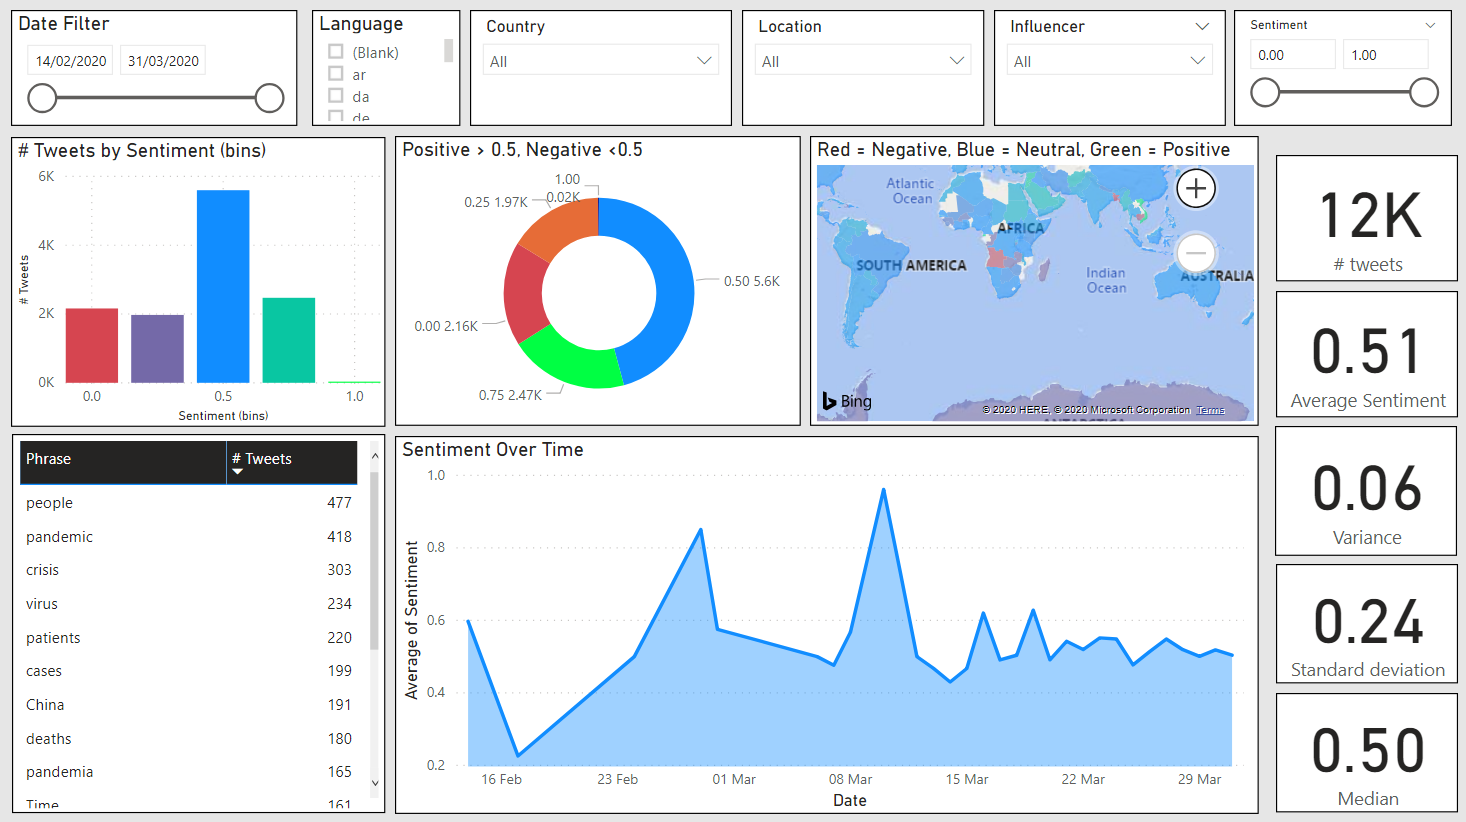

The page's visual inventory and layout, read from the dashboard file:
{"tool":"powerbi","page":{"name":"Sentiment Analysis","canvas":[1280,720],"ordinal":0},"visuals":[{"type":"slicer","title":"Date Filter","fields":{"Values":["viewTweets.DateCreated"]},"box":[9.7,10.7,247.4,100.3],"z":0},{"type":"slicer","title":"Language","fields":{"Values":["viewTweets.TweetLanguageCode"]},"box":[268.9,10.7,127.6,100.3],"z":1000},{"type":"slicer","fields":{"Values":["viewLocations.Country"]},"box":[405.2,10.7,226,100.3],"z":2000},{"type":"slicer","fields":{"Values":["viewLocations.BingLocation"]},"box":[640,10.7,209.4,100.3],"z":3000},{"type":"slicer","fields":{"Values":["viewTweets.TweetedBy"]},"box":[857.2,10.7,199.7,100.3],"z":4000},{"type":"slicer","fields":{"Values":["viewTweets.Sentiment"]},"box":[1064.7,10.7,188,100.3],"z":5000},{"type":"lineClusteredColumnComboChart","fields":{"Category":["viewTweets.Sentiment (bins)"],"Y":["Count(viewTweets.TwitterID)"]},"box":[9.9,119.6,322.9,250.1],"z":6000},{"type":"card","fields":{"Values":["Avg(viewTweets.Sentiment)"]},"box":[1101,252.3,156.5,108.8],"z":7000},{"type":"card","fields":{"Values":["StandardDeviation(viewTweets.Sentiment)"]},"box":[1101,488,156.5,103.4],"z":8000},{"type":"card","fields":{"Values":["StandardDeviation(viewTweets.Sentiment)"]},"box":[1100.1,368.8,156.5,111.5],"z":9000},{"type":"card","fields":{"Values":["Median(viewTweets.Sentiment)"]},"box":[1101,599.1,156.5,103.4],"z":10000},{"type":"tableEx","fields":{"Values":["viewTopPhrases.Phrase","viewTweets.ID"]},"box":[10.2,376.4,322.3,327.4],"z":11000},{"type":"donutChart","title":"Positive > 0.5, Negative <0.5","fields":{"Y":["Count(viewTweets.TwitterID)"],"Category":["viewTweets.Sentiment (bins)"]},"box":[340.7,119.3,349.8,249.9],"z":12000},{"type":"areaChart","title":"Sentiment Over Time","fields":{"Category":["viewTweets.Date"],"Y":["Avg(viewTweets.Sentiment)"]},"box":[340.7,377.4,744.5,326.4],"z":13000},{"type":"filledMap","title":"Red = Negative, Blue = Neutral, Green = Positive","fields":{"Category":["viewLocations.Country"]},"box":[698.6,119.3,386.5,249.9],"z":14000},{"type":"card","fields":{"Values":["Count(viewTweets.TwitterID)"]},"box":[1101,135.8,156.5,108.8],"z":15000}]}

Visuals, with their boxes in screenshot pixels (x1, y1, x2, y2), scaled from the page's 1280x720 canvas onto the 1466x822 screenshot:
"Date Filter" slicer: (x1=11, y1=12, x2=294, y2=127)
"Language" slicer: (x1=308, y1=12, x2=454, y2=127)
slicer - viewLocations.Country: (x1=464, y1=12, x2=723, y2=127)
slicer - viewLocations.BingLocation: (x1=733, y1=12, x2=973, y2=127)
slicer - viewTweets.TweetedBy: (x1=982, y1=12, x2=1210, y2=127)
slicer - viewTweets.Sentiment: (x1=1219, y1=12, x2=1435, y2=127)
lineClusteredColumnComboChart - viewTweets.Sentiment (bins) x Count(viewTweets.TwitterID): (x1=11, y1=137, x2=381, y2=422)
card - Avg(viewTweets.Sentiment): (x1=1261, y1=288, x2=1440, y2=412)
card - StandardDeviation(viewTweets.Sentiment): (x1=1261, y1=557, x2=1440, y2=675)
card - StandardDeviation(viewTweets.Sentiment): (x1=1260, y1=421, x2=1439, y2=548)
card - Median(viewTweets.Sentiment): (x1=1261, y1=684, x2=1440, y2=802)
tableEx - viewTopPhrases.Phrase x viewTweets.ID: (x1=12, y1=430, x2=381, y2=804)
"Positive > 0.5, Negative <0.5" donutChart: (x1=390, y1=136, x2=791, y2=422)
"Sentiment Over Time" areaChart: (x1=390, y1=431, x2=1243, y2=804)
"Red = Negative, Blue = Neutral, Green = Positive" filledMap: (x1=800, y1=136, x2=1243, y2=422)
card - Count(viewTweets.TwitterID): (x1=1261, y1=155, x2=1440, y2=279)
